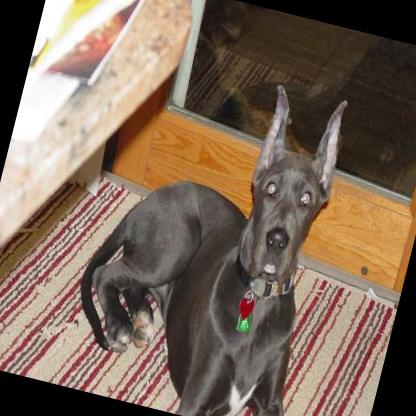Great_Dane: (53, 40, 370, 416)
